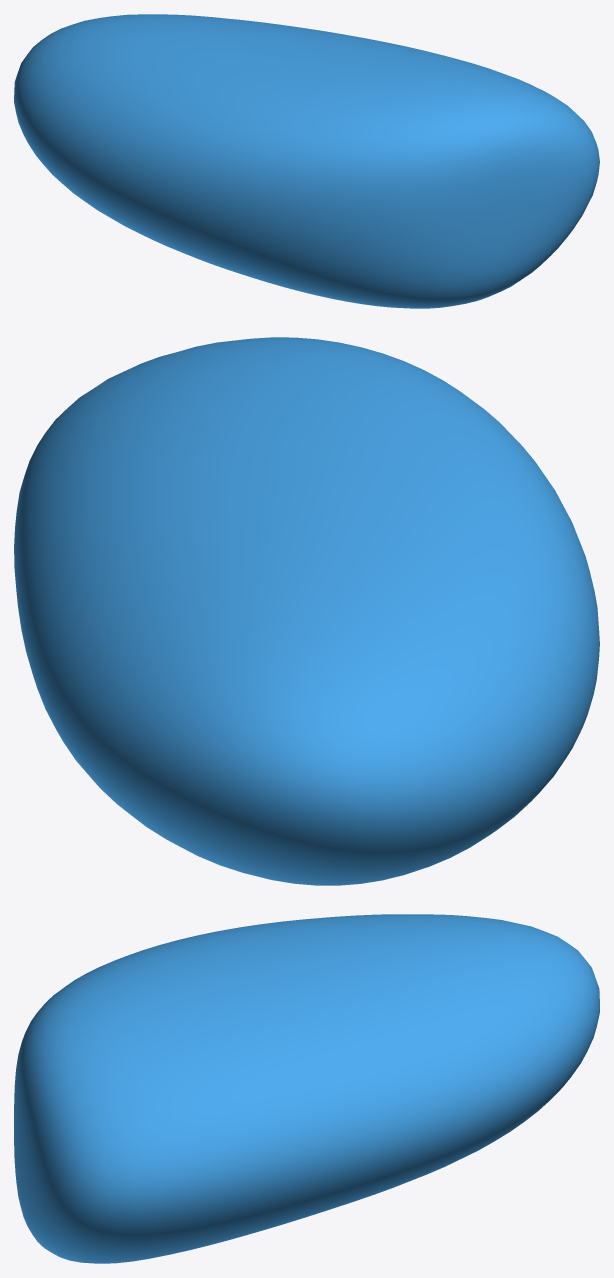
File: Puff3.fbx
The picture shows the model from 3 angles, top to bottom: view 1: azimuth 30°, elevation 25°; view 2: azimuth 150°, elevation 25°; view 3: azimuth 270°, elevation 25°; orthographic projection. The views are drawn at different scales.
Parts seen in each view (by area): view 1: Puff3; view 2: Puff3; view 3: Puff3.
Part boxes in pixels (x1,y1,x2,y2): Puff3: [14, 14, 599, 308]; Puff3: [14, 337, 599, 885]; Puff3: [14, 914, 599, 1263].
Bounding box in the file's own units: 0.6618 × 0.312 × 0.6941.
